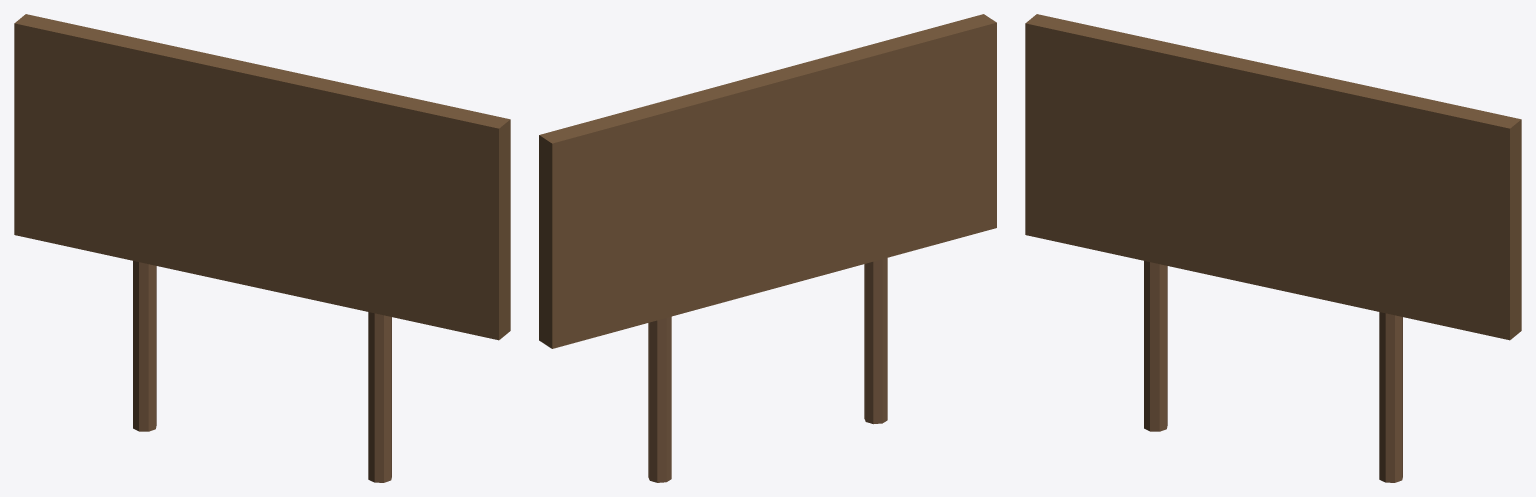
The model's file is cartel_z2_lev1.glb.
3 views of the same model, side by side, from view 1: azimuth 90°, elevation 25°; view 2: azimuth 150°, elevation 25°; view 3: azimuth 270°, elevation 25° (orthographic). The views are drawn at different scales.
Visible parts, largest first — view 1: cartel_z2_lev1; view 2: cartel_z2_lev1; view 3: cartel_z2_lev1.
Part boxes in pixels (x1=…): cartel_z2_lev1: x1=14, y1=14, x2=510, y2=482; cartel_z2_lev1: x1=539, y1=14, x2=996, y2=482; cartel_z2_lev1: x1=1025, y1=14, x2=1521, y2=482.
Size of the model in its own units: 1.74 by 2.7 by 3.19.
